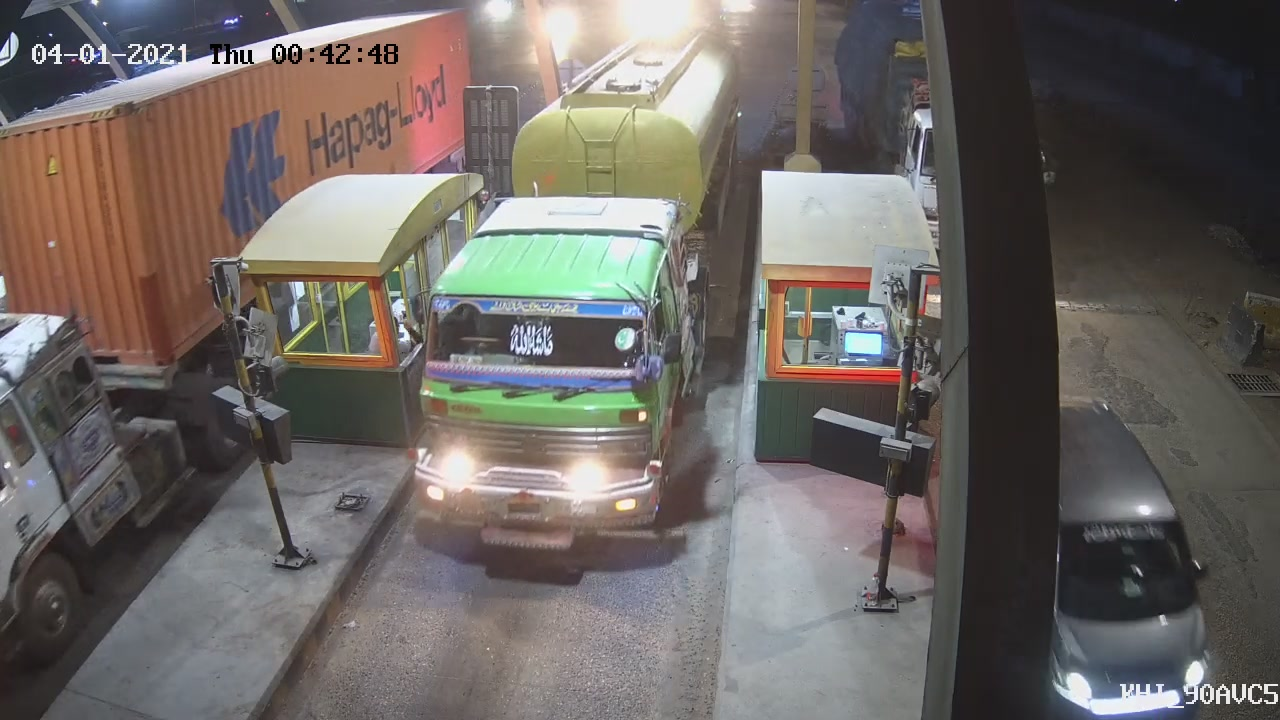F5: (402, 14, 748, 582)
